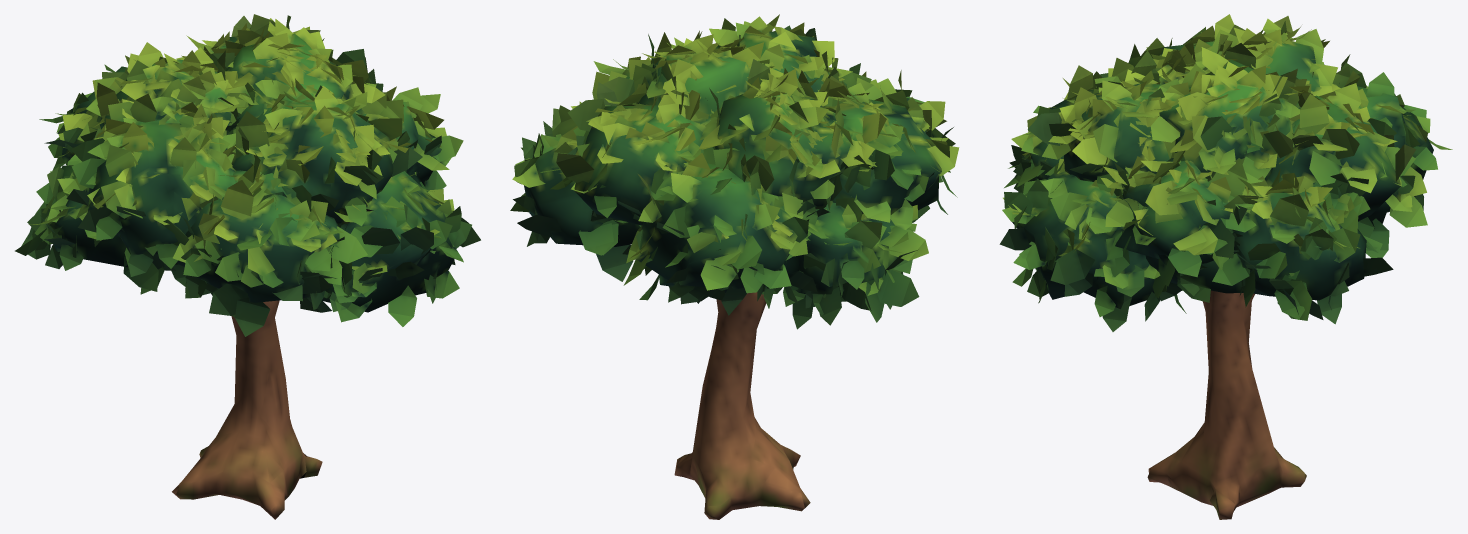
Rendered from tree_a.glb.
3 views of the same model, side by side, from view 1: azimuth 30°, elevation 25°; view 2: azimuth 150°, elevation 25°; view 3: azimuth 270°, elevation 25° (orthographic).
Visible parts, largest first — view 1: tree_a; view 2: tree_a; view 3: tree_a.
Boxes of the visible parts, bbox=[...] form: tree_a: bbox=[15, 14, 480, 519]; tree_a: bbox=[510, 14, 959, 519]; tree_a: bbox=[999, 14, 1452, 519].
Bounding box in the file's own units: 4.39 × 4.72 × 4.42.
Materials: 1 (1 with a texture image).
